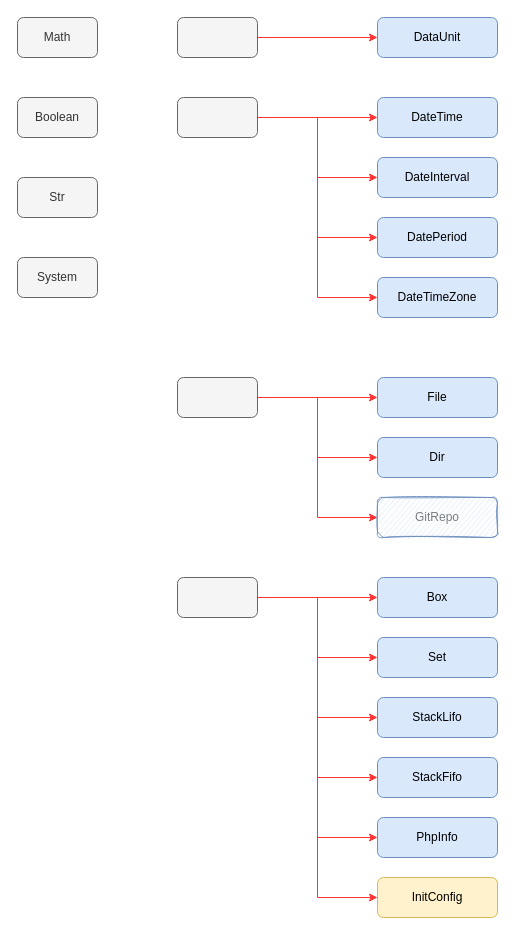
Image size: 515x935. Some labels were removed from this diagram. The centre of each missing label's shape, as x and y in pixels:
"Data" goes at (x=217, y=37).
"DT" goes at (x=217, y=117).
"FS" goes at (x=217, y=397).
"PHP" goes at (x=217, y=597).
